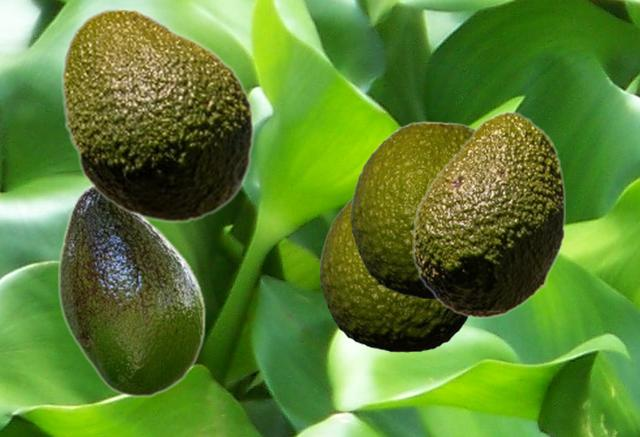avocado: (60, 7, 254, 223), (412, 111, 564, 318), (58, 185, 205, 396), (319, 196, 470, 351), (350, 121, 475, 298)
